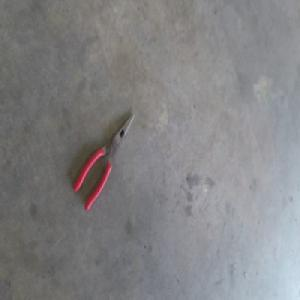Pliers: (74, 112, 135, 211)
